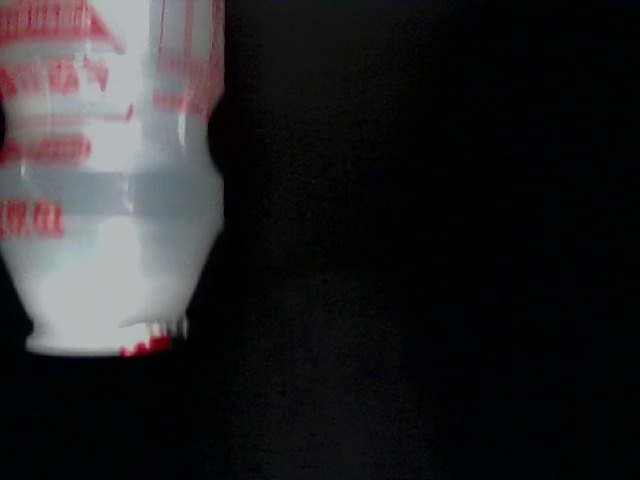CYLJ: (552, 161, 640, 275)
